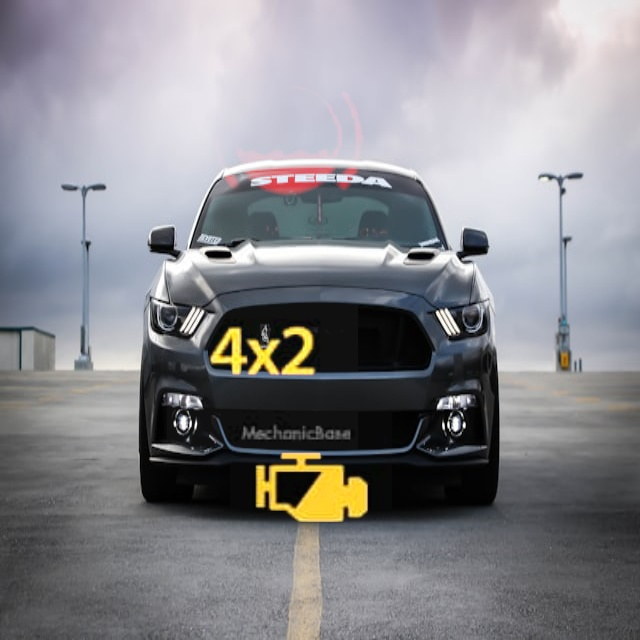symbol: (178, 30, 397, 249), (167, 258, 358, 449), (230, 407, 392, 569)
